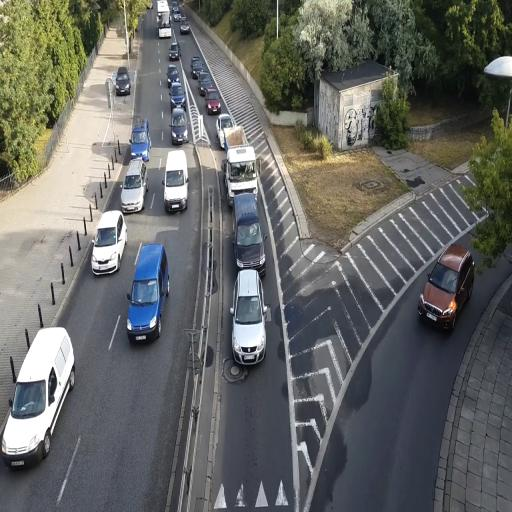vehicle: (0, 326, 76, 469), (226, 145, 267, 274), (418, 249, 476, 334), (126, 240, 170, 344), (230, 269, 268, 366), (232, 189, 266, 273), (91, 211, 128, 276), (225, 146, 258, 202), (163, 149, 188, 214), (120, 158, 147, 214), (129, 118, 151, 162), (170, 104, 189, 144), (216, 112, 235, 150), (114, 67, 131, 96), (206, 91, 222, 115), (190, 57, 203, 81), (168, 43, 180, 62)
